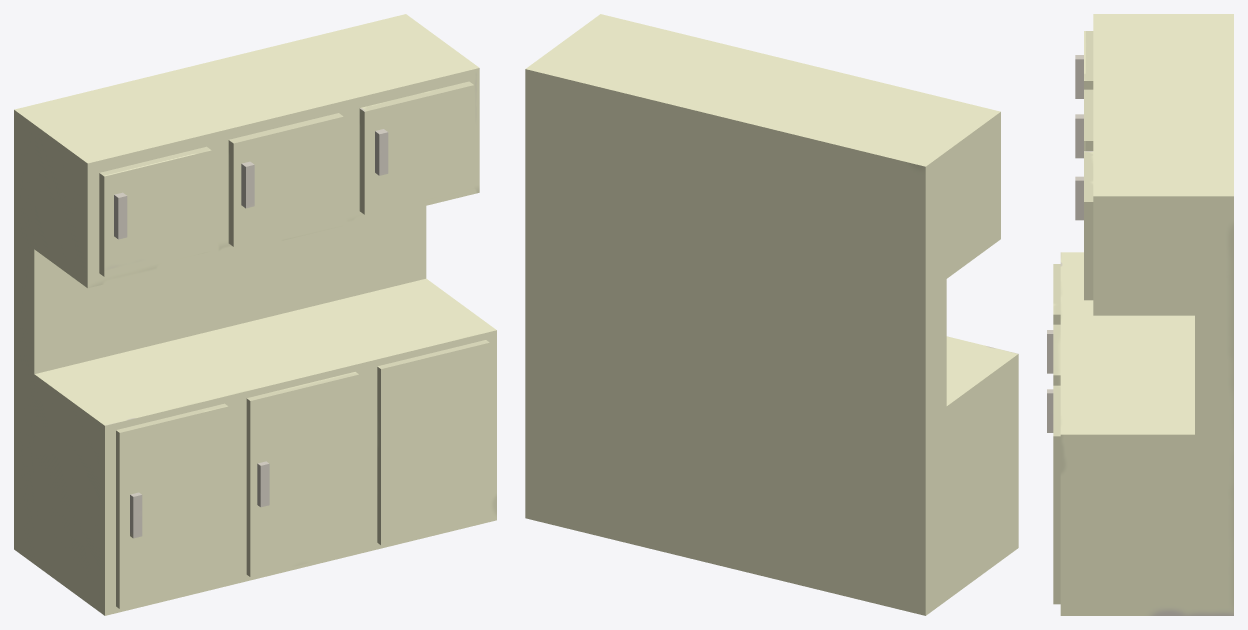
File: ArmariodaCozinha.fbx
3 views of the same model, side by side, from view 1: azimuth 30°, elevation 25°; view 2: azimuth 150°, elevation 25°; view 3: azimuth 270°, elevation 25° (orthographic). The views are drawn at different scales.
Parts seen in each view (by area): view 1: ArmarioCozinha; view 2: ArmarioCozinha; view 3: ArmarioCozinha.
Part boxes in pixels (<box>): ArmarioCozinha: <box>14,14,496,615</box>; ArmarioCozinha: <box>525,14,1018,615</box>; ArmarioCozinha: <box>1047,14,1233,615</box>.
Bounding box in the file's own units: 203 × 218 × 87.95.
Materials: 1 (1 with a texture image).
